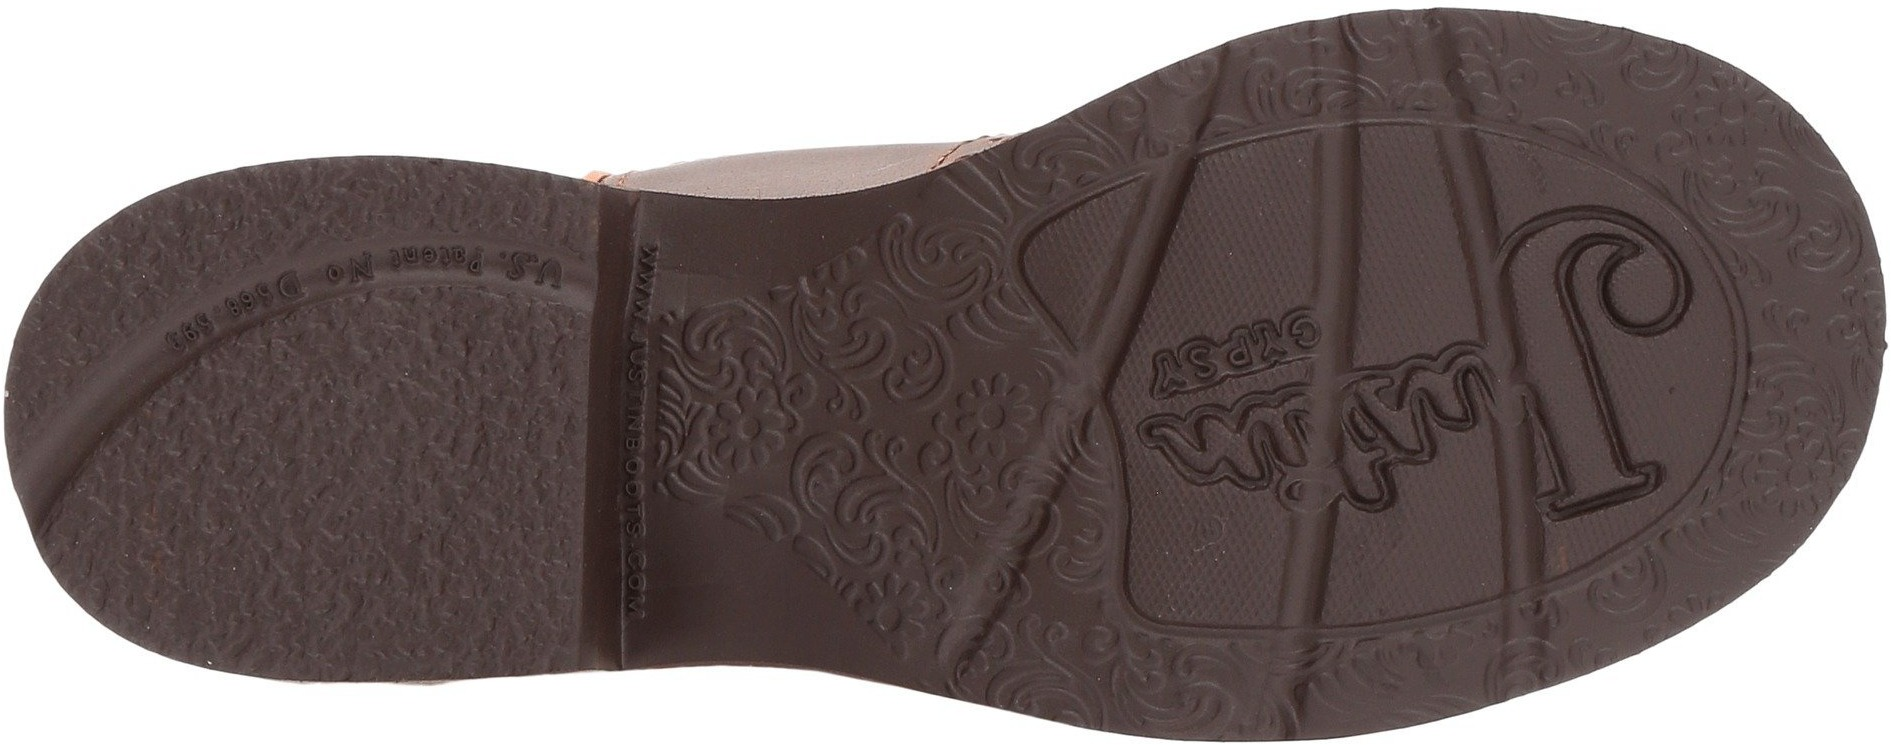exclude: (561, 100, 1036, 703)
other: (268, 333, 564, 637), (98, 441, 269, 627), (1189, 174, 1327, 303), (1167, 500, 1280, 622)
text: (1151, 333, 1309, 493)
